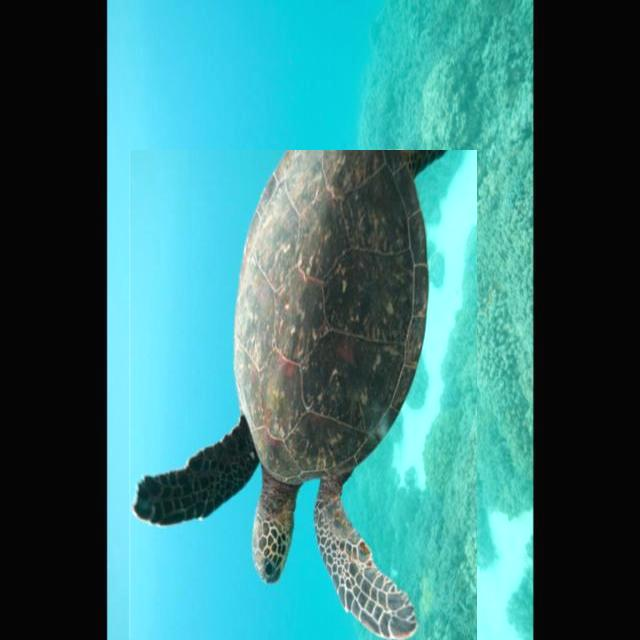Sea turtle: (129, 150, 477, 640)
